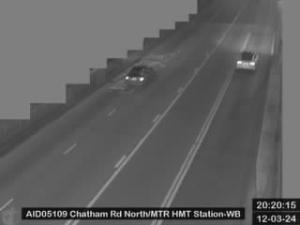vehicle: (124, 66, 157, 90), (236, 50, 260, 70)
